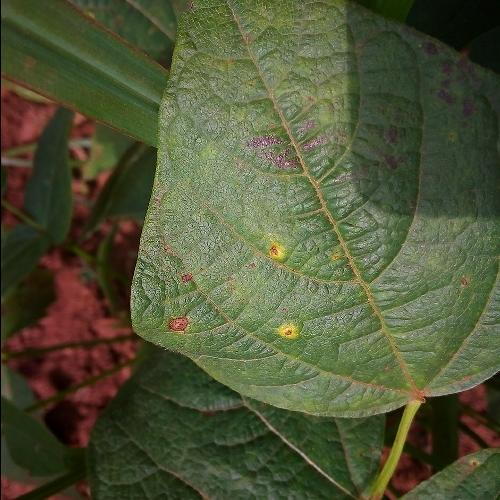hawar: (364, 24, 470, 194), (246, 100, 344, 188), (151, 269, 205, 342), (233, 230, 296, 288), (254, 312, 309, 355)
